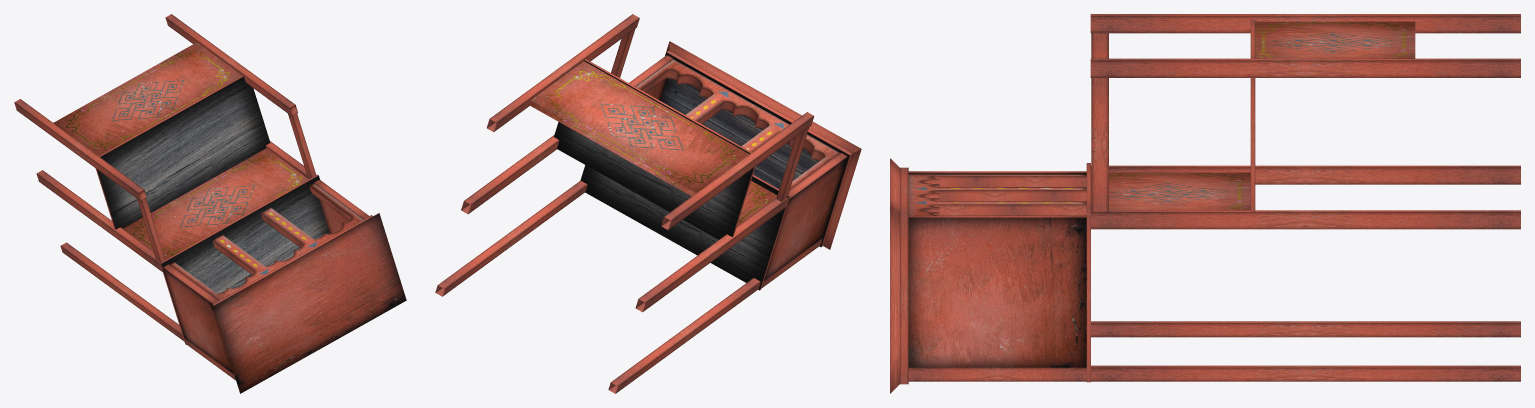
The model's file is tibetan_altar.fbx.
3 views of the same model, side by side, from view 1: azimuth 30°, elevation 25°; view 2: azimuth 150°, elevation 25°; view 3: azimuth 270°, elevation 25° (orthographic). The views are drawn at different scales.
Parts seen in each view (by area): view 1: Material10-material, Material5-material, Material8-material, Material12-material, Material6-material, Material1-material, Material7-material, Material11-material, Material2-material; view 2: Material12-material, Material8-material, Material10-material, Material9-material, Material6-material, Material1-material, Material11-material, Material7-material, Material2-material; view 3: Material12-material, Material6-material, Material8-material, Material7-material, Material2-material, Material1-material, Material11-material.
Boxes of the visible parts, box(x1,y1,x2,y2) form: Material10-material: box(97, 76, 329, 344); Material5-material: box(213, 213, 406, 393); Material8-material: box(53, 42, 308, 259); Material12-material: box(14, 14, 368, 380); Material6-material: box(138, 105, 363, 373); Material1-material: box(169, 183, 363, 300); Material7-material: box(95, 114, 316, 344); Material11-material: box(99, 75, 372, 305); Material2-material: box(212, 186, 351, 274); Material12-material: box(435, 14, 847, 393); Material8-material: box(529, 61, 777, 226); Material10-material: box(554, 60, 788, 290); Material9-material: box(660, 52, 849, 280); Material6-material: box(635, 59, 847, 279); Material1-material: box(636, 59, 839, 189); Material11-material: box(585, 41, 861, 249); Material7-material: box(611, 29, 861, 289); Material2-material: box(641, 70, 824, 161); Material12-material: box(908, 14, 1520, 381); Material6-material: box(908, 173, 1086, 367); Material8-material: box(1091, 21, 1415, 210); Material7-material: box(890, 33, 1255, 393); Material2-material: box(922, 176, 1086, 215); Material1-material: box(908, 174, 1086, 215); Material11-material: box(890, 19, 1255, 214).
Size of the model in its own units: 1.11 by 1.1 by 1.66.
11 materials, 11 textured.
